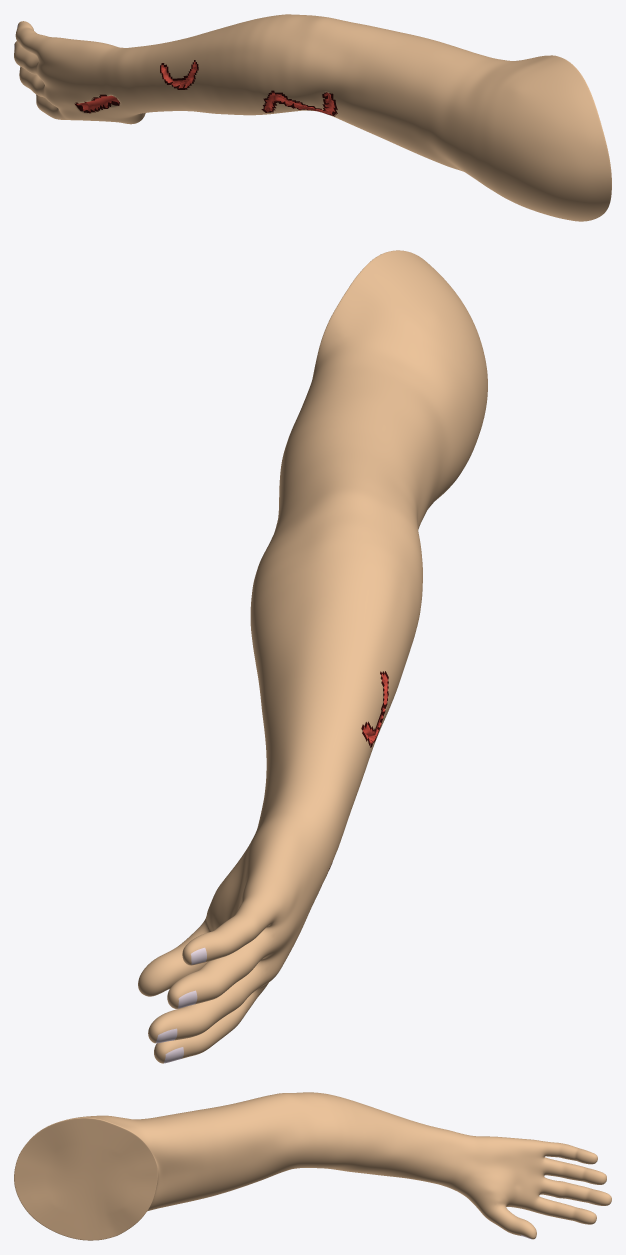
File: arm.fbx
3 views of the same model, one above another, from view 1: azimuth 30°, elevation 25°; view 2: azimuth 150°, elevation 25°; view 3: azimuth 270°, elevation 25° (orthographic). The views are drawn at different scales.
Parts seen in each view (by area): view 1: arm.001; view 2: arm.001; view 3: arm.001.
Boxes of the visible parts, box(x1,y1,x2,y2) form: arm.001: box(14, 14, 611, 221); arm.001: box(138, 250, 487, 1063); arm.001: box(14, 1092, 611, 1240).
Bounding box in the file's own units: 2452 × 2272 × 6865.
